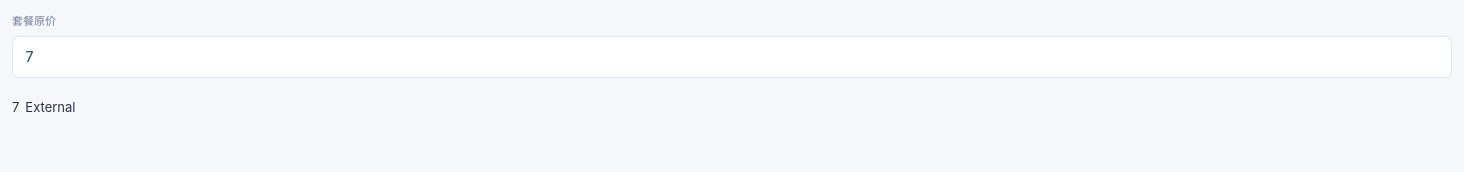
Test case: numeric input drafts › allows clearing and resumes typing without committing an invalid number
Clear the field labelled "套餐原价" at (732, 57), box [13,37,1451,77]
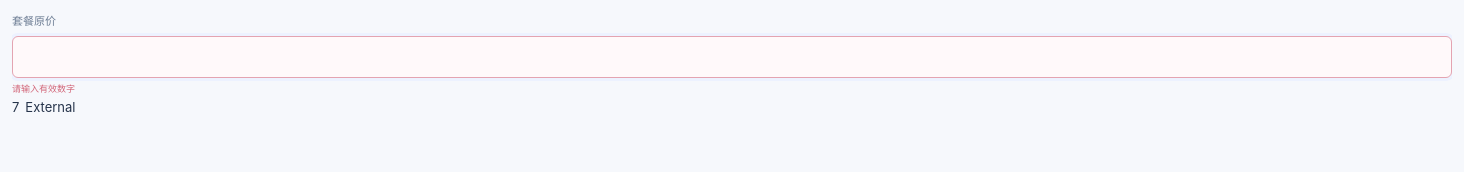
Expected: the text with test id "value" reads "7", [12,99,19,115]
Type "12.5" into the field labelled "套餐原价" at (732, 57), box [13,37,1451,77]
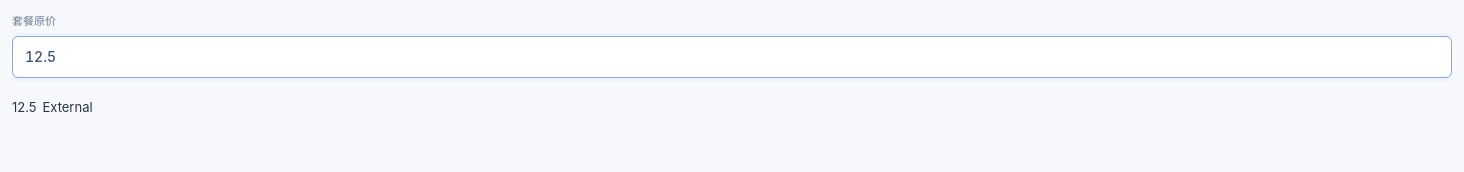
Now the text with test id "value" reads "12.5", box [12,99,36,115]
